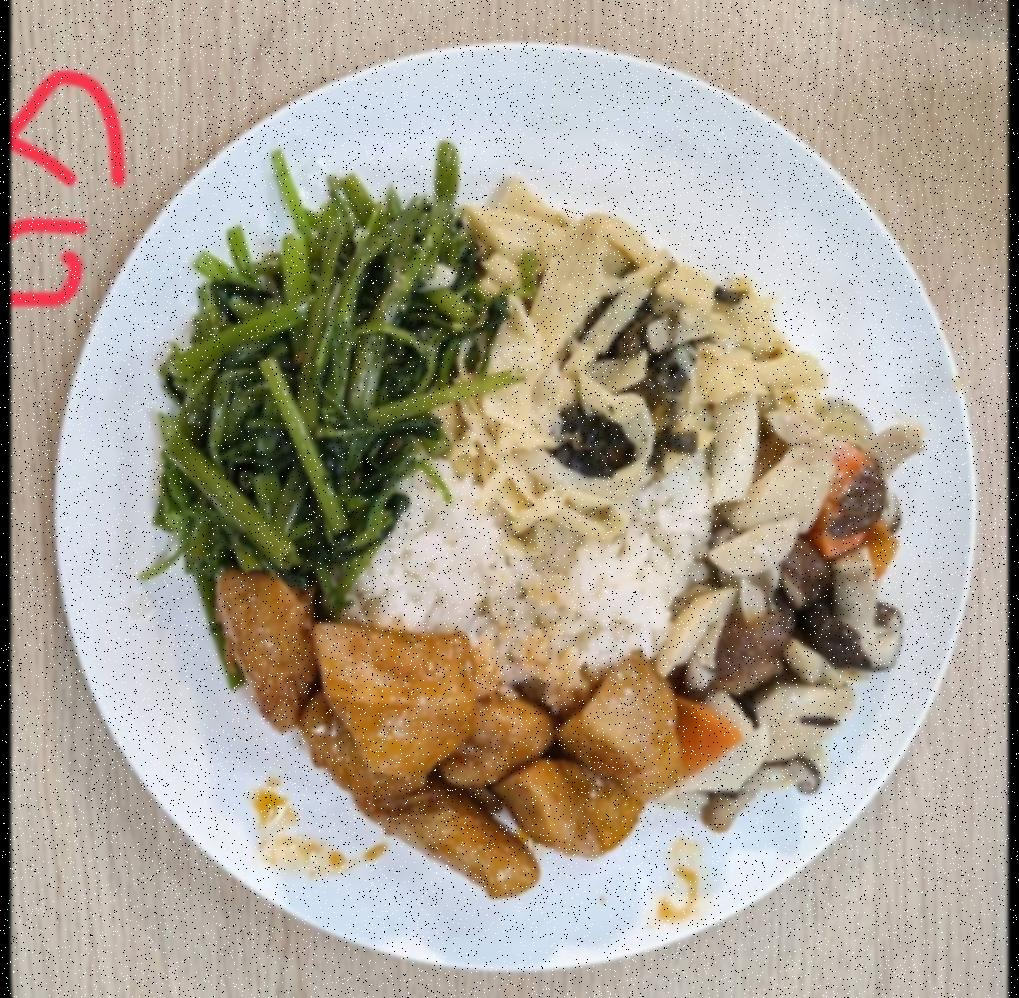plate: (43, 31, 982, 988)
side dish: (144, 138, 490, 616), (467, 190, 804, 523), (660, 399, 922, 820)
spicy chicken: (205, 564, 688, 888)
white rice: (328, 414, 716, 707)
